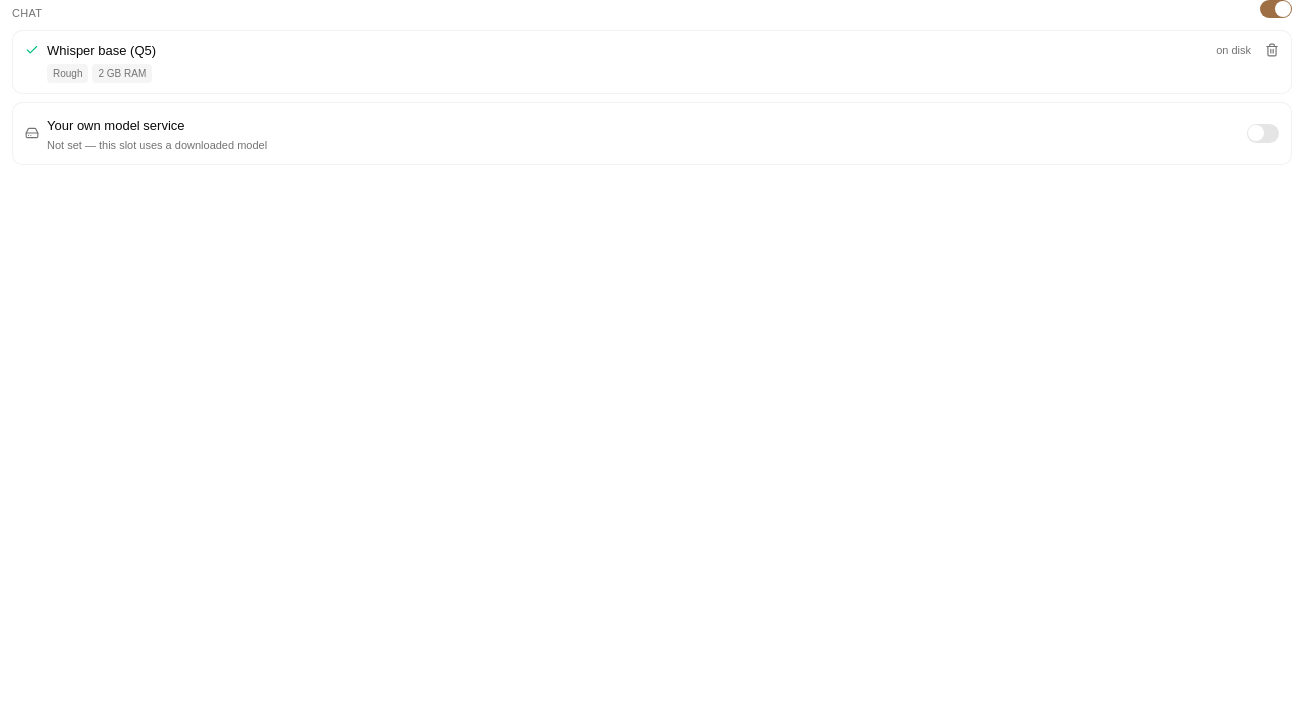
Test: ModelsPanel endpoints › opens the form instead of failing when switched on with no address
Check: the text "Your own model service" is shown, box 47,118 -> 184,133
Click the switch named "Use the model service".
click(1263, 133)  # box 1247,124 -> 1279,143
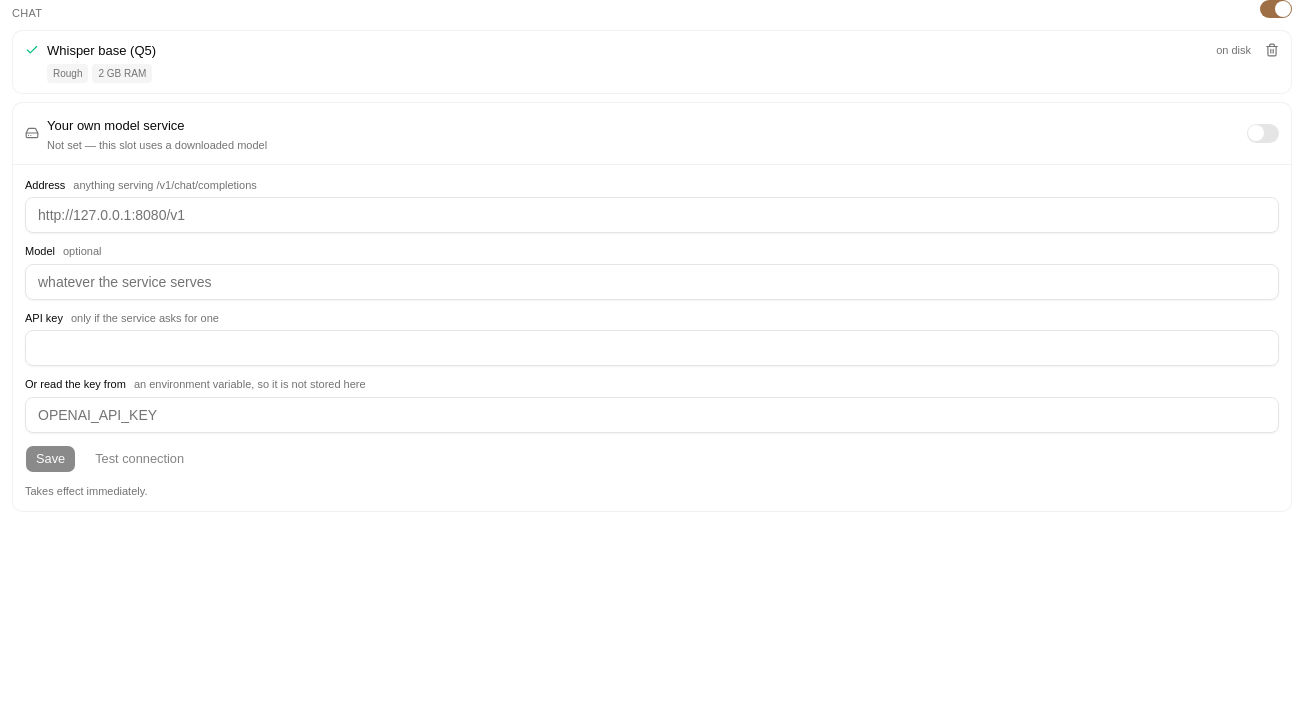
Check: the field with placeholder "http://127.0.0.1:8080/v1" is shown, box 25,197 -> 1279,233
